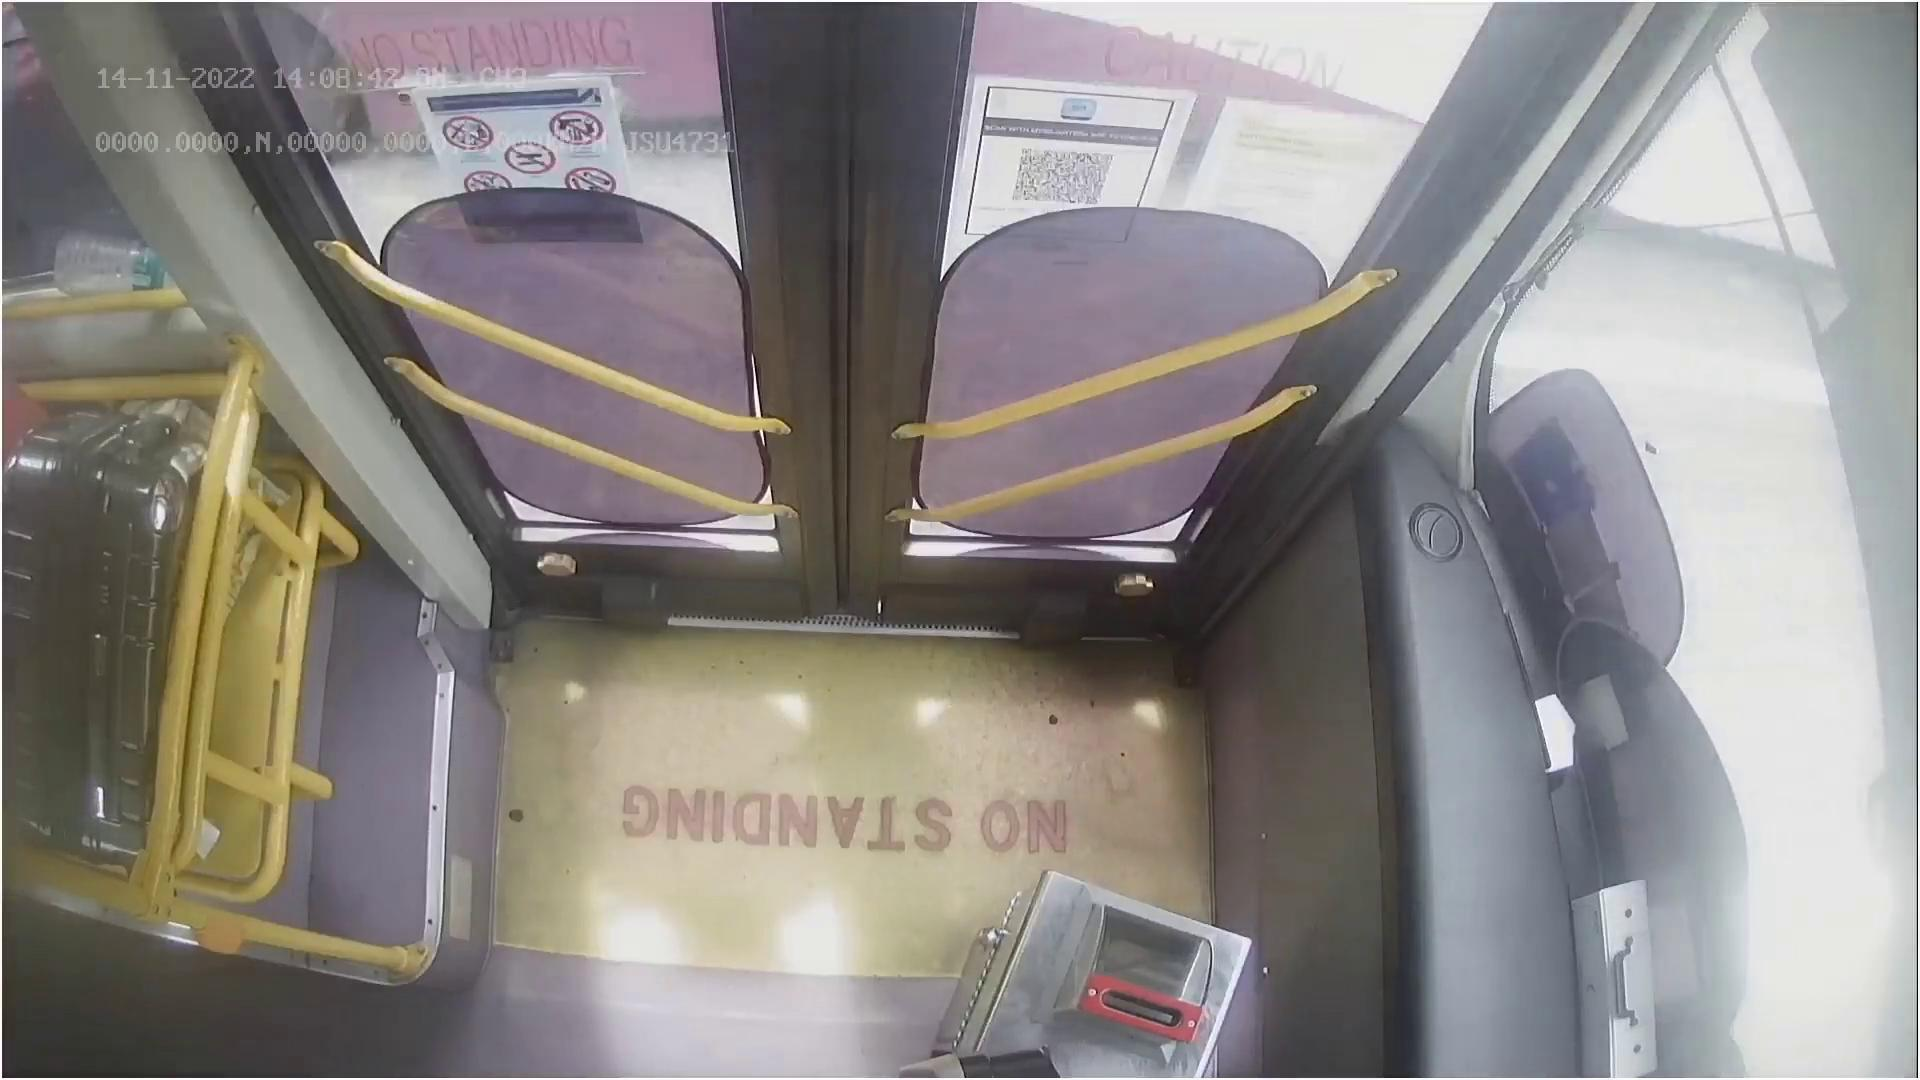close: (278, 0, 1435, 173)
